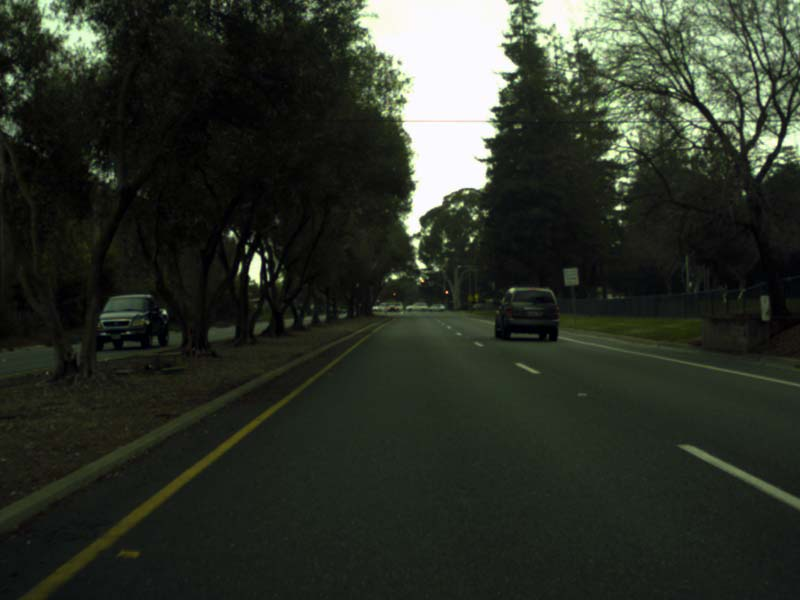Red: (445, 290, 448, 297), (393, 292, 395, 298), (421, 279, 423, 285)
